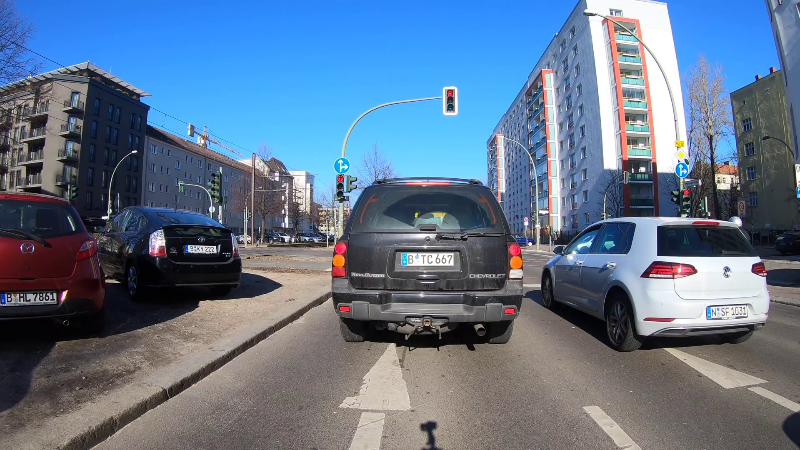Plate: (1, 285, 60, 308), (704, 303, 751, 321), (401, 252, 454, 266), (181, 243, 220, 255)
